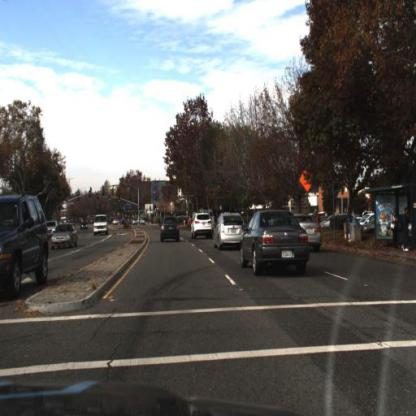car: (1, 194, 52, 298), (238, 209, 311, 274), (299, 203, 329, 260), (216, 207, 247, 260), (48, 220, 82, 254), (189, 205, 214, 246), (90, 208, 113, 240), (159, 213, 180, 246), (361, 216, 379, 239), (356, 209, 377, 227)
pedestrian: (401, 207, 411, 254), (392, 209, 401, 251)
